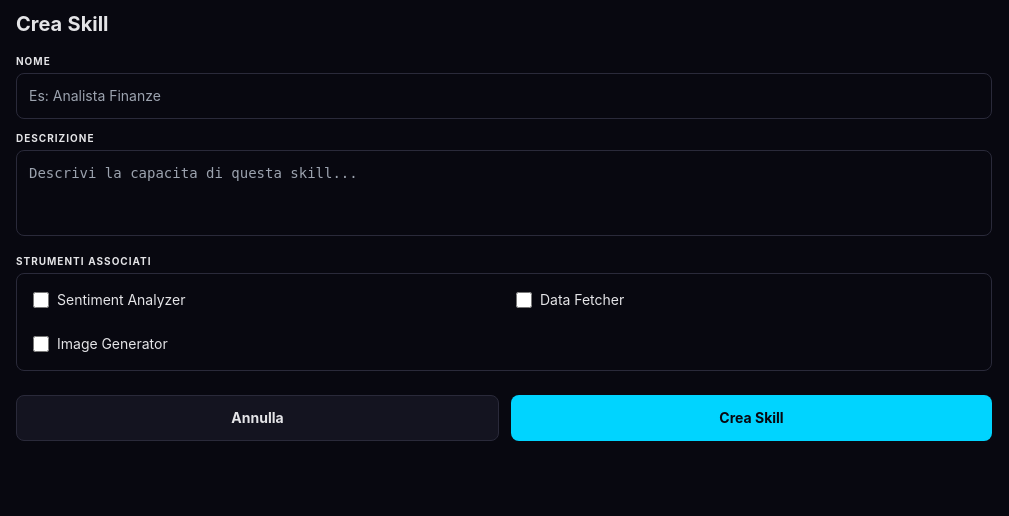
SkillForm › catches non-Error exceptions and displays message
Click the button "Crea Skill" at [752, 418], box [511,395,992,441]
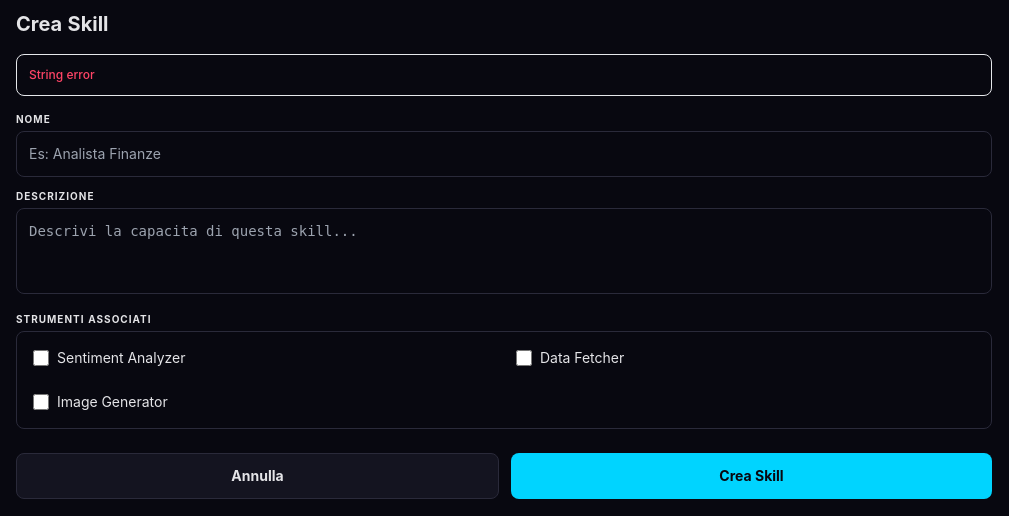
Expected: the text "String error" is shown, [16,54,992,96]
